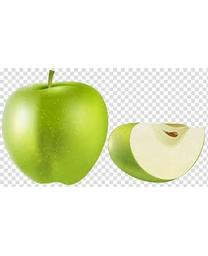apple: (2, 68, 108, 186), (108, 123, 205, 183)
